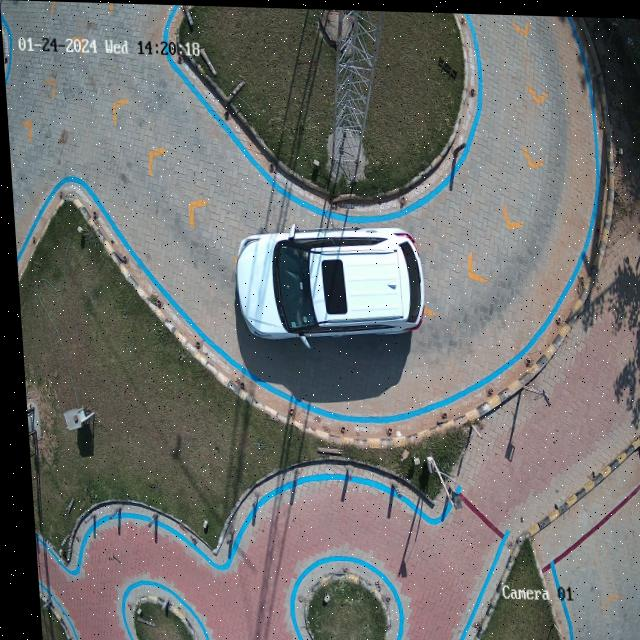car: (233, 224, 421, 339)
